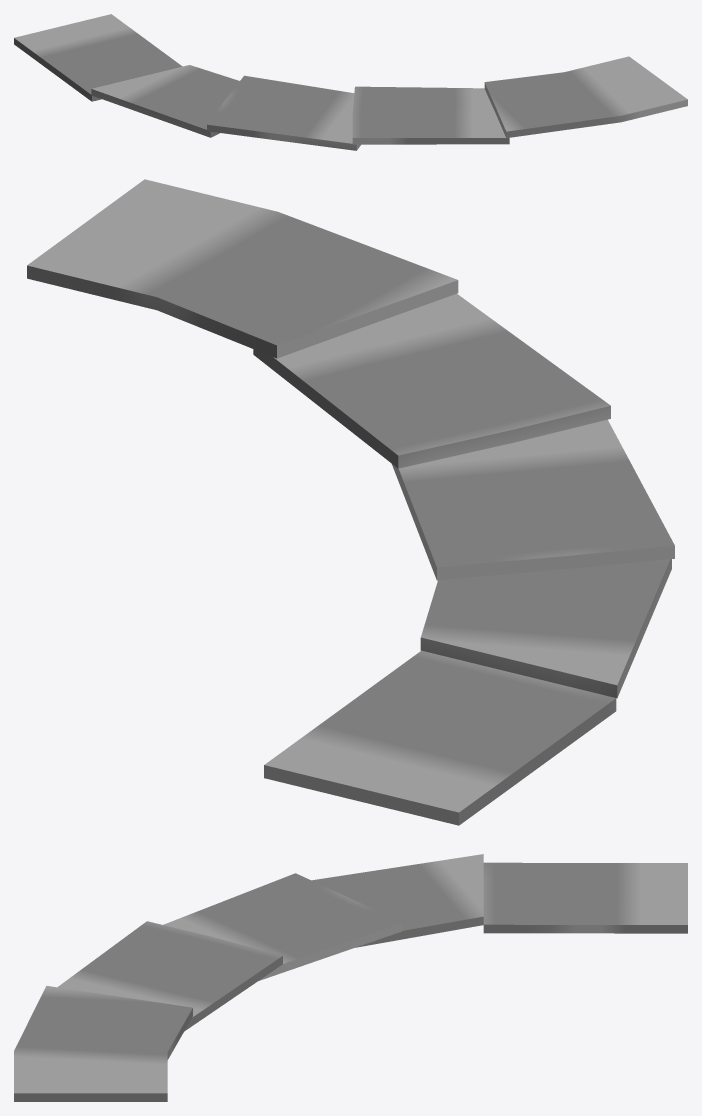
Rendered from floor_mainStair.fbx.
3 views of the same model, one above another, from view 1: azimuth 30°, elevation 25°; view 2: azimuth 150°, elevation 25°; view 3: azimuth 270°, elevation 25° (orthographic). The views are drawn at different scales.
Visible parts, largest first — view 1: floor_mainStair; view 2: floor_mainStair; view 3: floor_mainStair.
Boxes of the visible parts, box(x1,y1,x2,y2) form: floor_mainStair: box(14, 14, 687, 150); floor_mainStair: box(27, 179, 674, 825); floor_mainStair: box(14, 854, 687, 1101).
Size of the model in its own units: 3994 by 299 by 4293.
